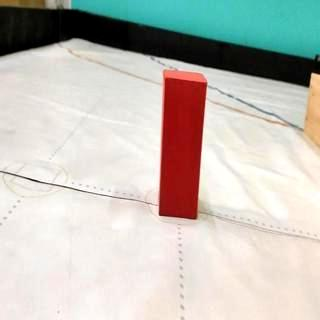redbox: (160, 66, 208, 219)
